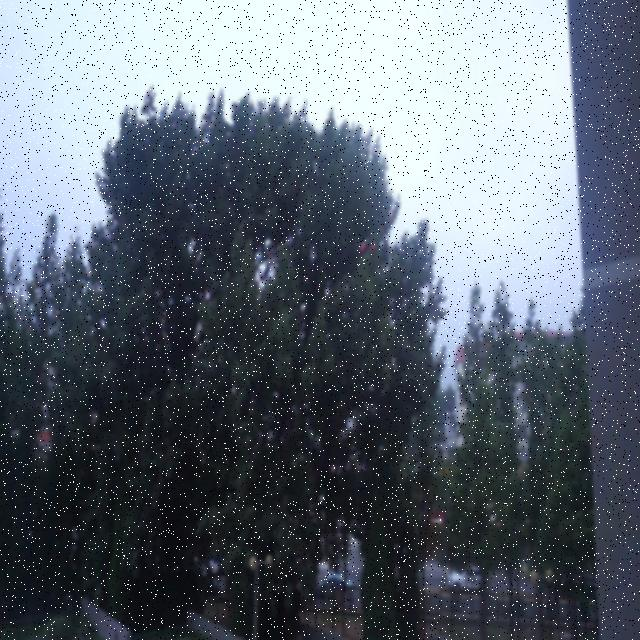UAV: (358, 242, 376, 259)
